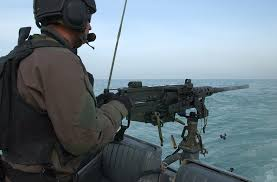gun: (95, 78, 252, 125)
